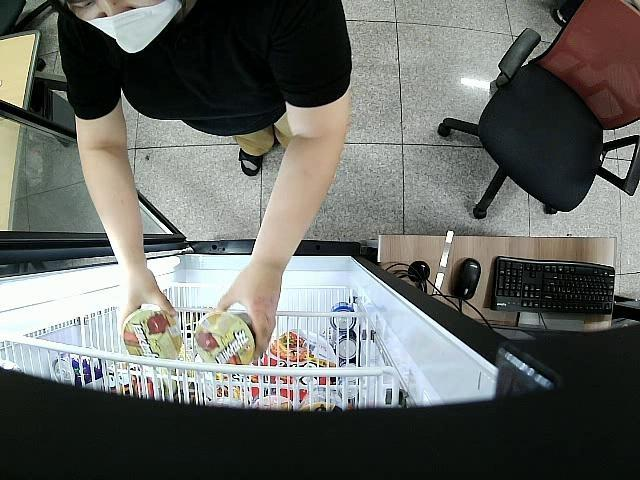04_chapagetti_S: (196, 308, 256, 364), (124, 310, 184, 360)
